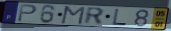6: (39, 4, 56, 24)
8: (133, 9, 151, 28)
L: (112, 8, 129, 26)
M: (60, 6, 87, 26)
P: (17, 4, 39, 23)
R: (84, 6, 106, 26)
